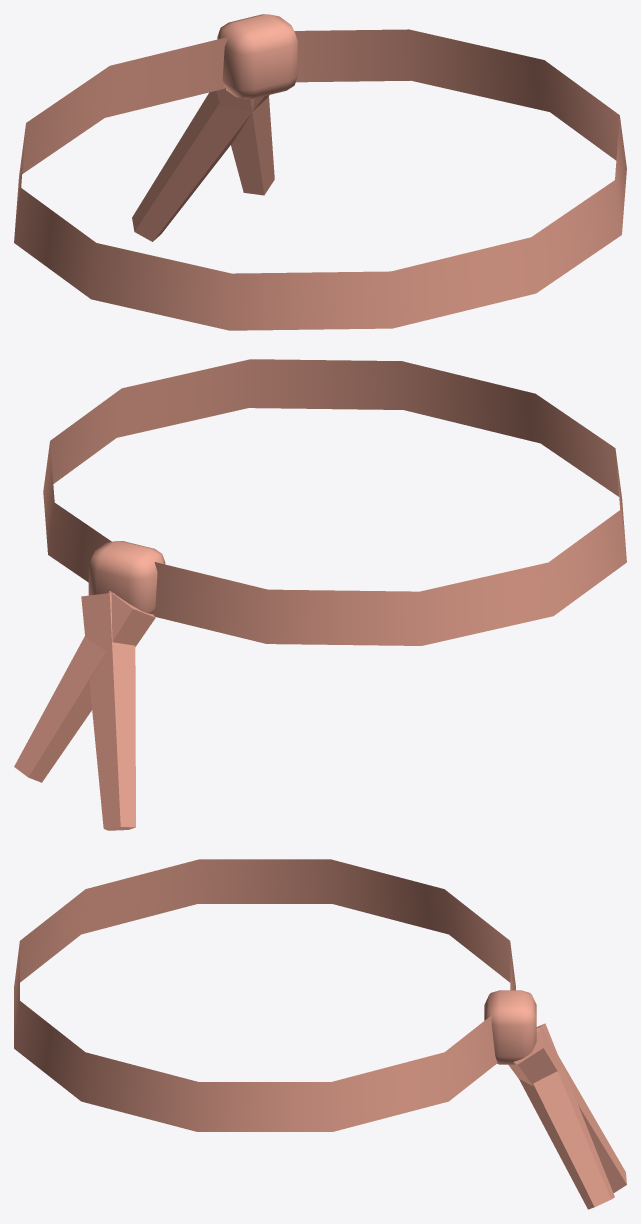
File: CharHatBand.fbx
The picture shows the model from 3 angles, top to bottom: view 1: azimuth 30°, elevation 25°; view 2: azimuth 150°, elevation 25°; view 3: azimuth 270°, elevation 25°; orthographic projection. The views are drawn at different scales.
Visible parts, largest first — view 1: CharHatBand; view 2: CharHatBand; view 3: CharHatBand.
Part boxes in pixels (x1,y1,x2,y2): CharHatBand: (14, 14, 626, 330); CharHatBand: (14, 359, 626, 830); CharHatBand: (14, 859, 626, 1209).
Bounding box in the file's own units: 0.4134 × 0.1801 × 0.4694.
